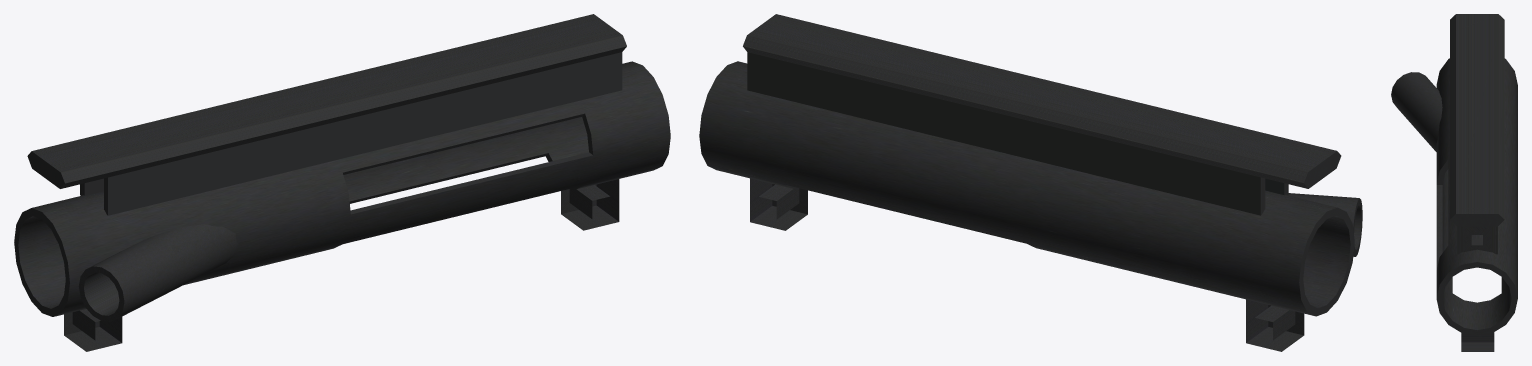
Rendered from Upper_Receiver.dae.
3 renders of one model, left to right at view 1: azimuth 30°, elevation 25°; view 2: azimuth 150°, elevation 25°; view 3: azimuth 270°, elevation 25°, orthographic. The views are drawn at different scales.
Visible parts, largest first — view 1: Upper_Receiver; view 2: Upper_Receiver; view 3: Upper_Receiver.
Part boxes in pixels (bbox=[...]): Upper_Receiver: bbox=[14, 14, 670, 351]; Upper_Receiver: bbox=[699, 14, 1362, 351]; Upper_Receiver: bbox=[1391, 14, 1517, 351].
Bounding box in the file's own units: 0.1902 × 0.0477 × 0.0573.
1 material, 1 textured.
